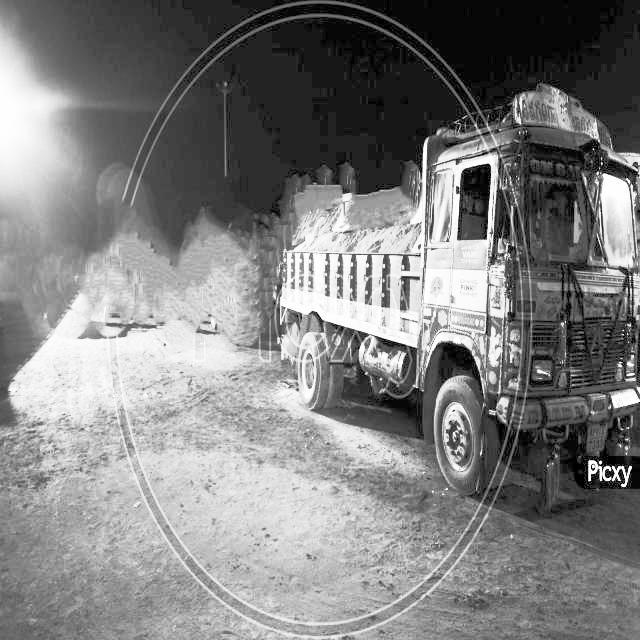Truck: (272, 82, 639, 512)
